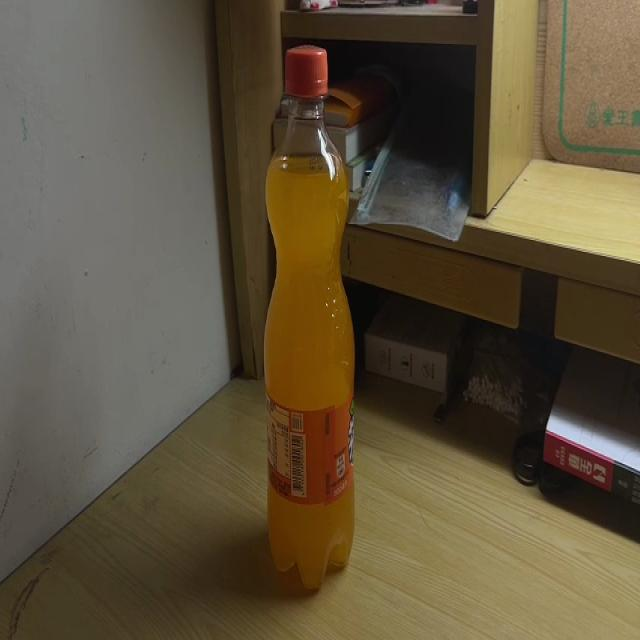Fanta: (262, 44, 353, 594)
